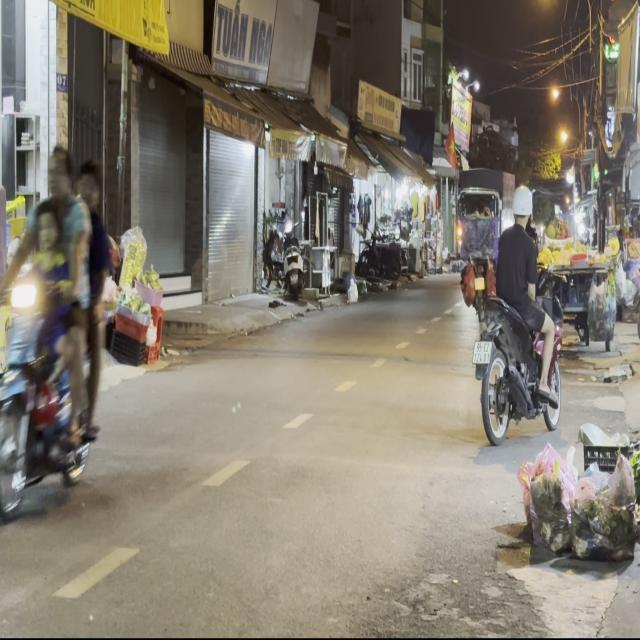helmet: (510, 184, 532, 225)
licenseplate: (0, 138, 119, 528), (471, 181, 563, 445)
motorcyclist: (45, 142, 74, 199), (32, 199, 61, 253), (74, 156, 101, 212)
nohelmet: (473, 340, 492, 362)
